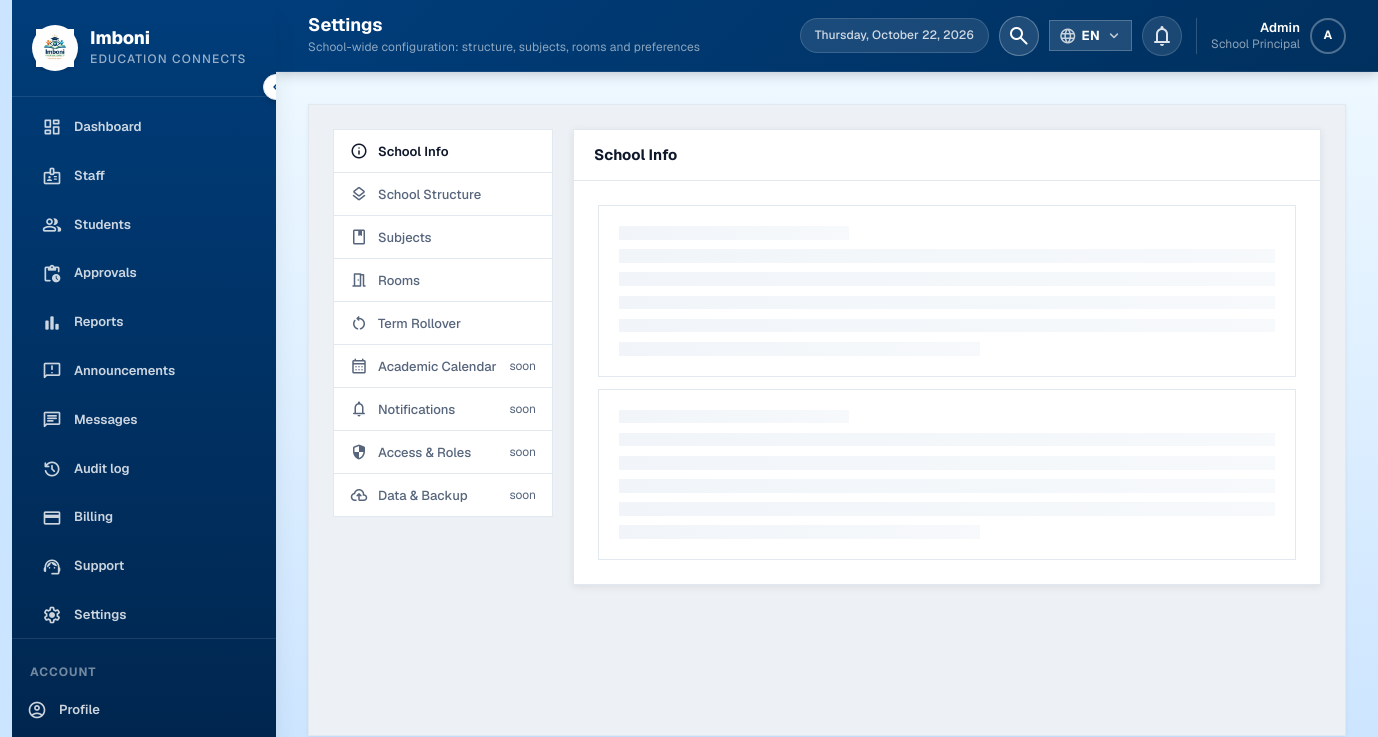
Test: AdminSettings › shows the empty message for Subjects with no types yet
Click the button "Subjects" at {"x": 443, "y": 238}, box 334,216 -> 552,259
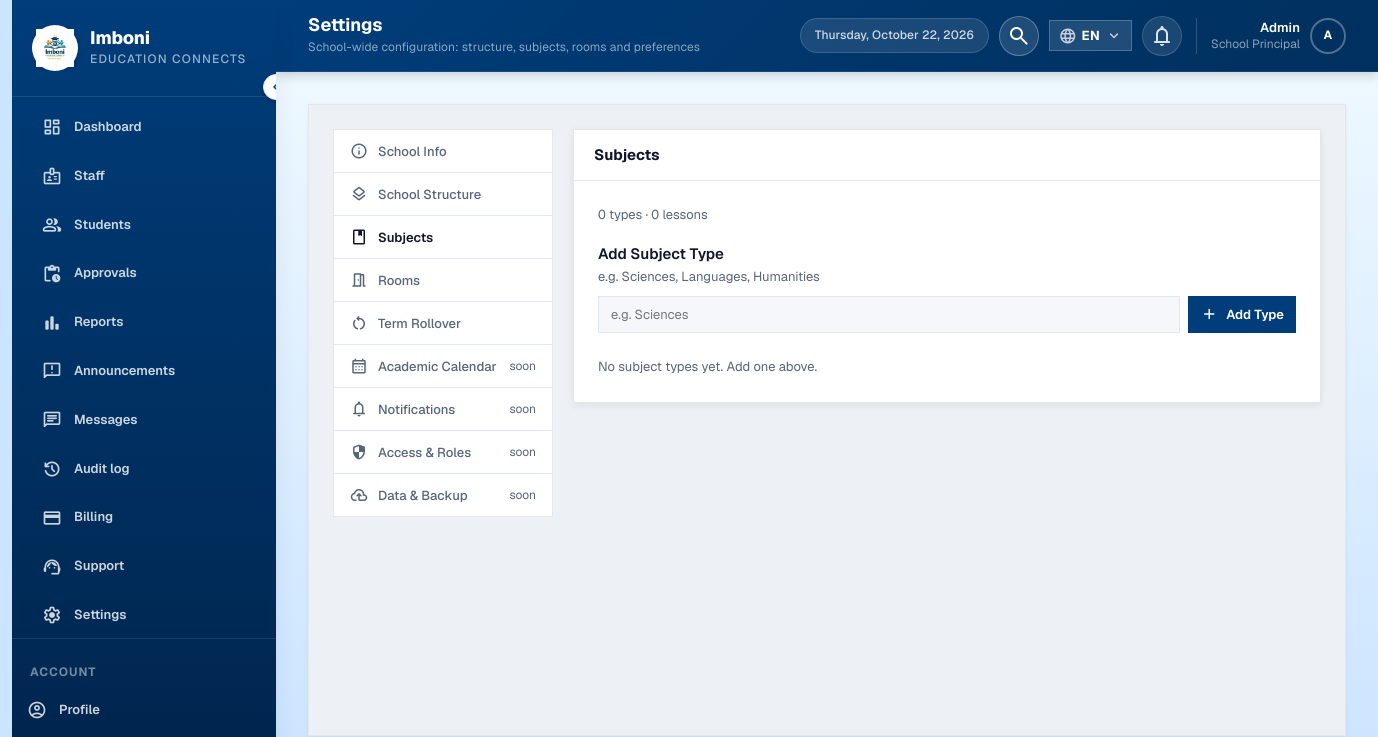
Check: the text "No subject types yet. Add one above." is shown, box 598,358 -> 817,375
